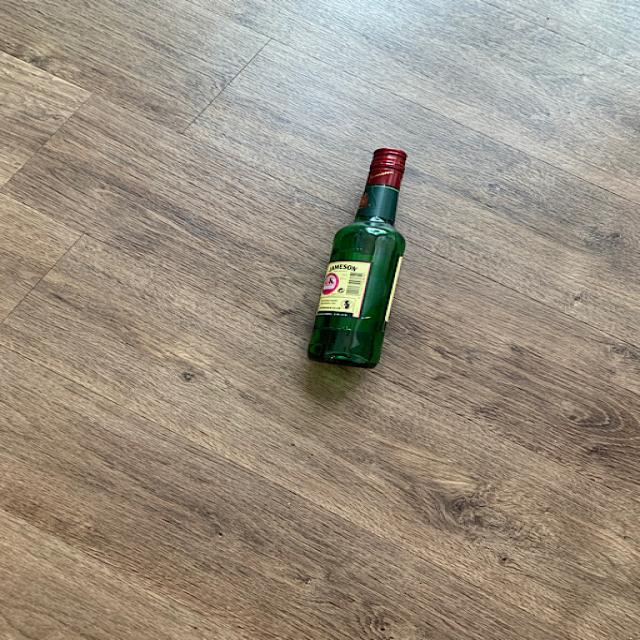litter: (303, 143, 422, 376)
